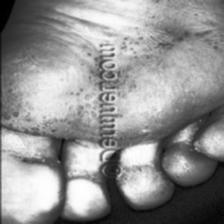Toxin: (5, 144, 43, 171), (0, 110, 22, 122), (157, 40, 176, 52)
